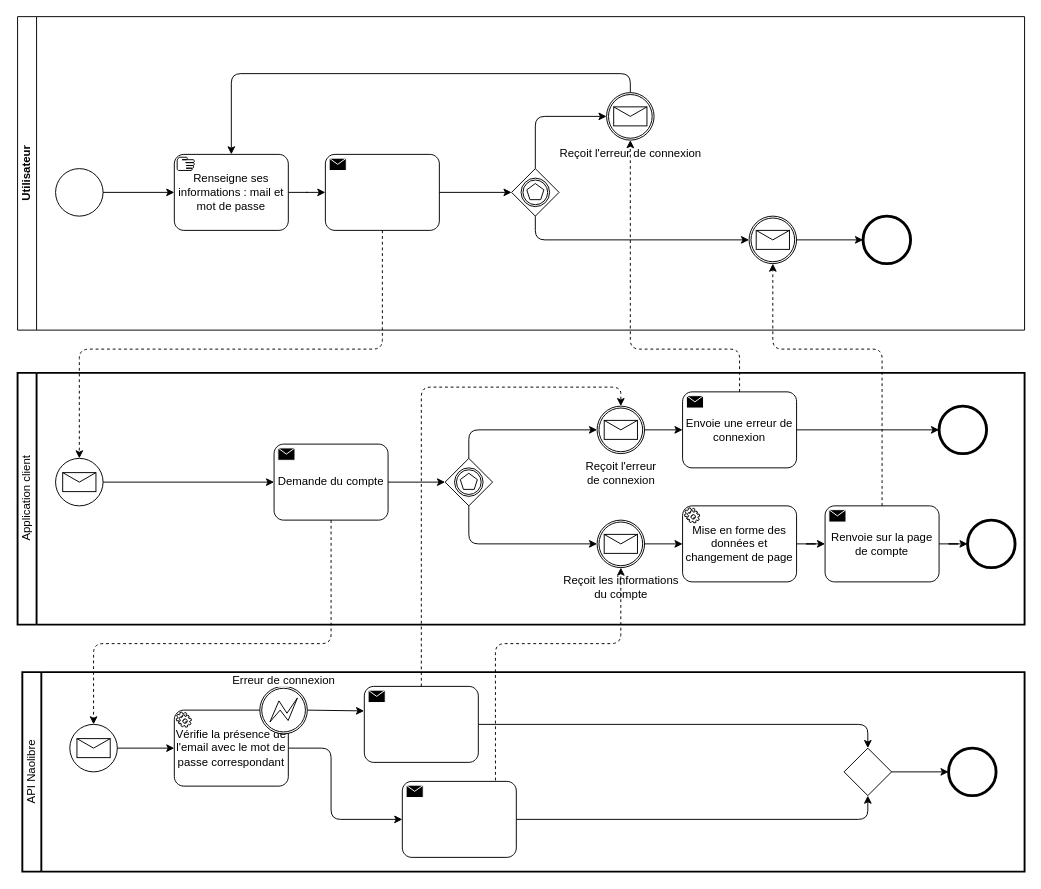
Image size: 1041x889. Some labels were removed from this diagram. The centre of each missing label's shape, as x and y in pixels:
Clique sur "Se connecter": (381,191)
Envoie les informations du compte: (458,818)
Envoie une erreur: (420,723)
Reçoit la page compte: (772,239)
Reçoit le mail et mot de passe: (79,481)
Reçoit le mail et mot de passe du compte: (93,747)
